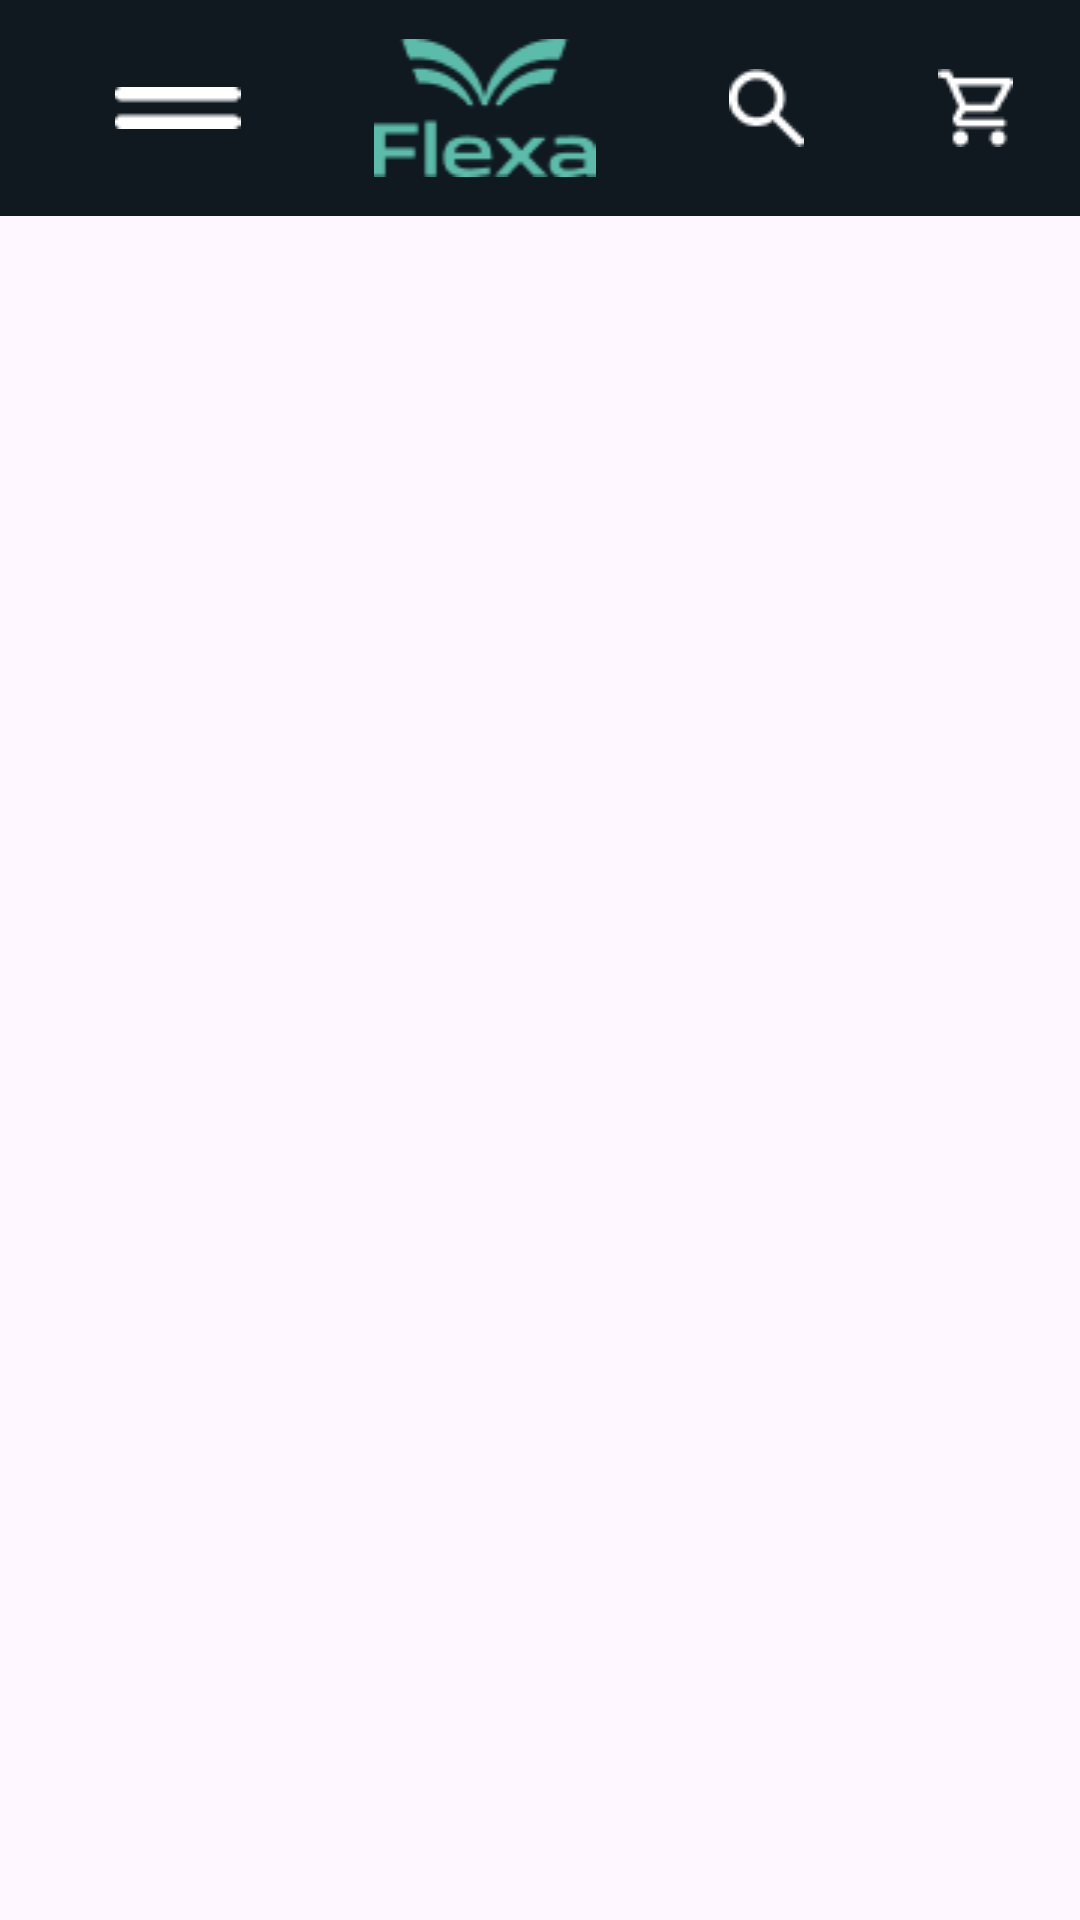

Where to tap for icons on this 1080 × 1920 app screen, as (x=x, y=y):
menu: (x=178, y=108)
search: (x=766, y=108)
shopping cart: (x=975, y=108)
